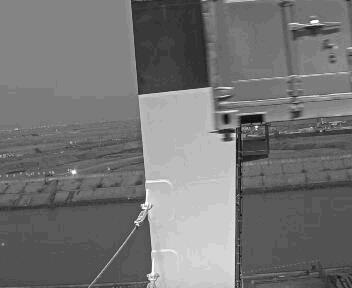twist_lock_1: (128, 164, 193, 206)
